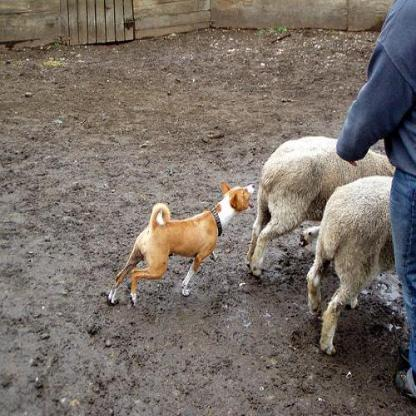basenji: (107, 180, 254, 306)
